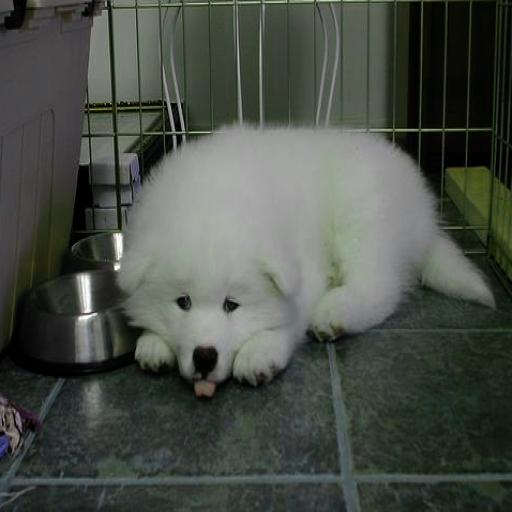dog_face: (126, 179, 292, 390)
